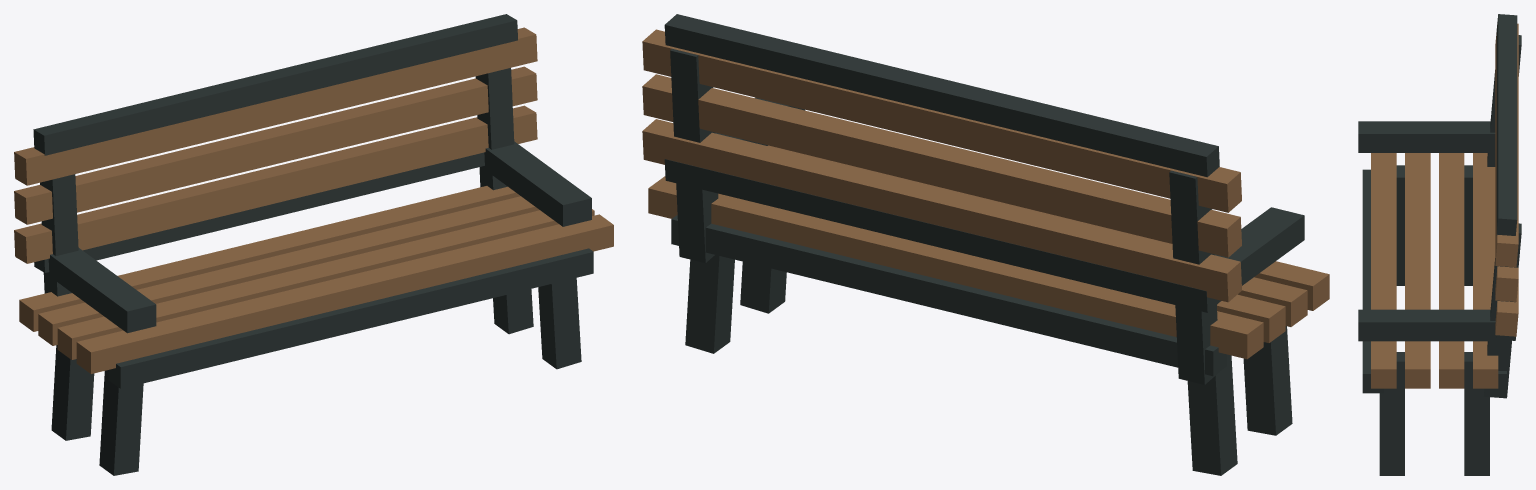
File: prop-garden-bench.v1.glb
3 views of the same model, side by side, from view 1: azimuth 30°, elevation 25°; view 2: azimuth 150°, elevation 25°; view 3: azimuth 270°, elevation 25° (orthographic). The views are drawn at different scales.
Visible parts, largest first — view 1: GardenBenchSlats, GardenBenchFrame; view 2: GardenBenchSlats, GardenBenchFrame; view 3: GardenBenchFrame, GardenBenchSlats.
Boxes of the visible parts, bbox=[...] form: GardenBenchSlats: bbox=[14, 27, 613, 373]; GardenBenchFrame: bbox=[33, 14, 593, 475]; GardenBenchSlats: bbox=[642, 29, 1329, 359]; GardenBenchFrame: bbox=[664, 14, 1304, 475]; GardenBenchFrame: bbox=[1358, 14, 1521, 475]; GardenBenchSlats: bbox=[1371, 23, 1518, 388].
Bounding box in the file's own units: 2.52 × 1.35 × 0.7692.
